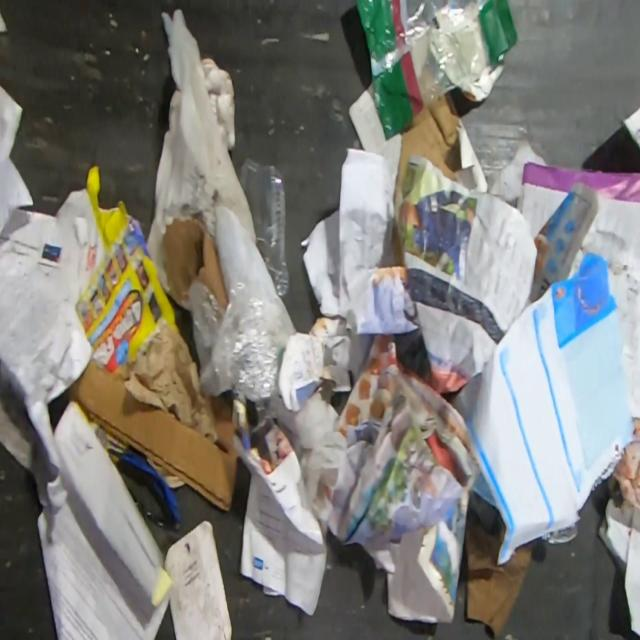cardboard: (75, 359, 238, 513), (74, 164, 180, 372), (347, 81, 460, 205), (464, 511, 534, 637), (162, 216, 228, 313), (90, 420, 128, 464)
rigid_plastic: (238, 156, 290, 298)
soft_plastic: (354, 0, 518, 142), (188, 278, 279, 419)
